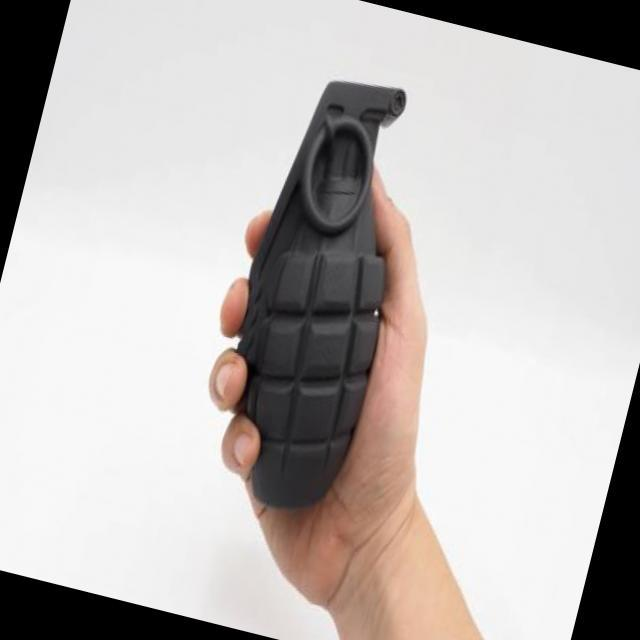grenade: (202, 46, 452, 530)
